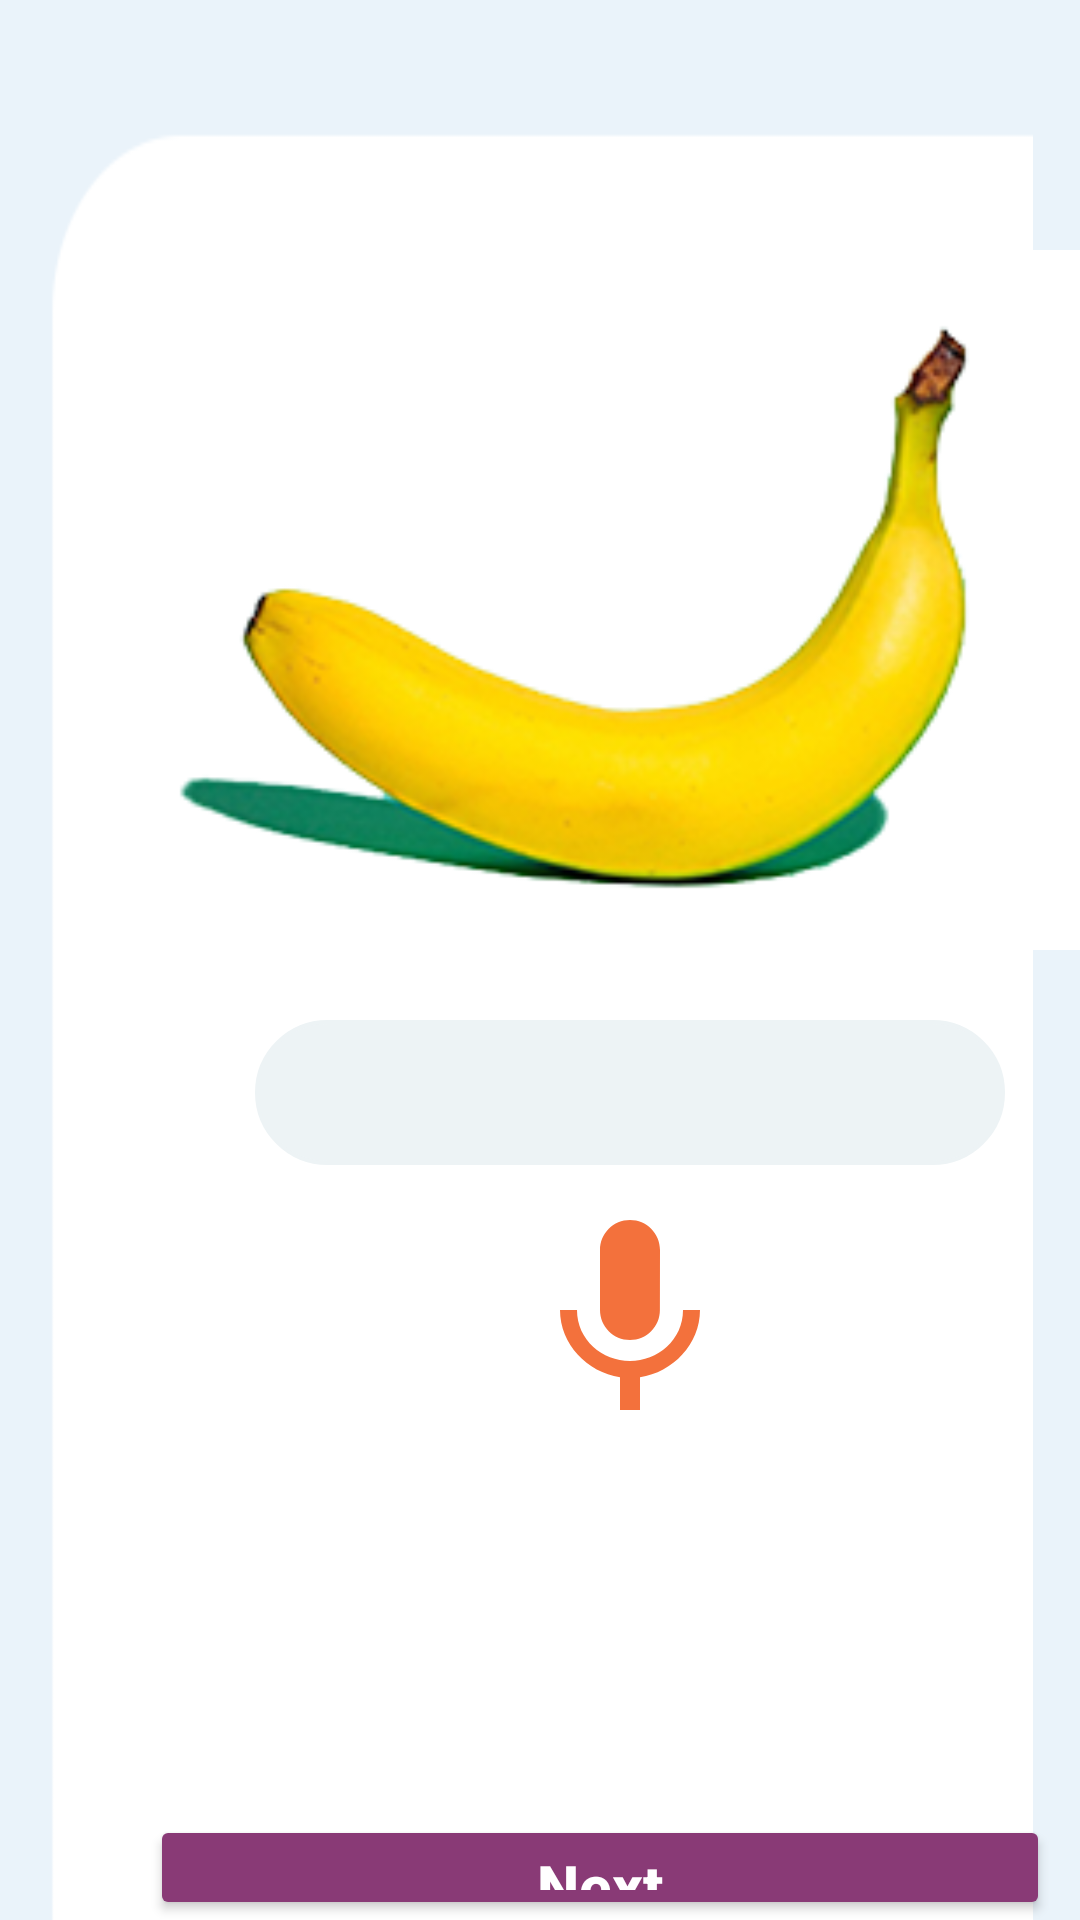

Point at icon controls on the screen. Image size 1080*1920, points as [x,y].
mic: [630,1315]
